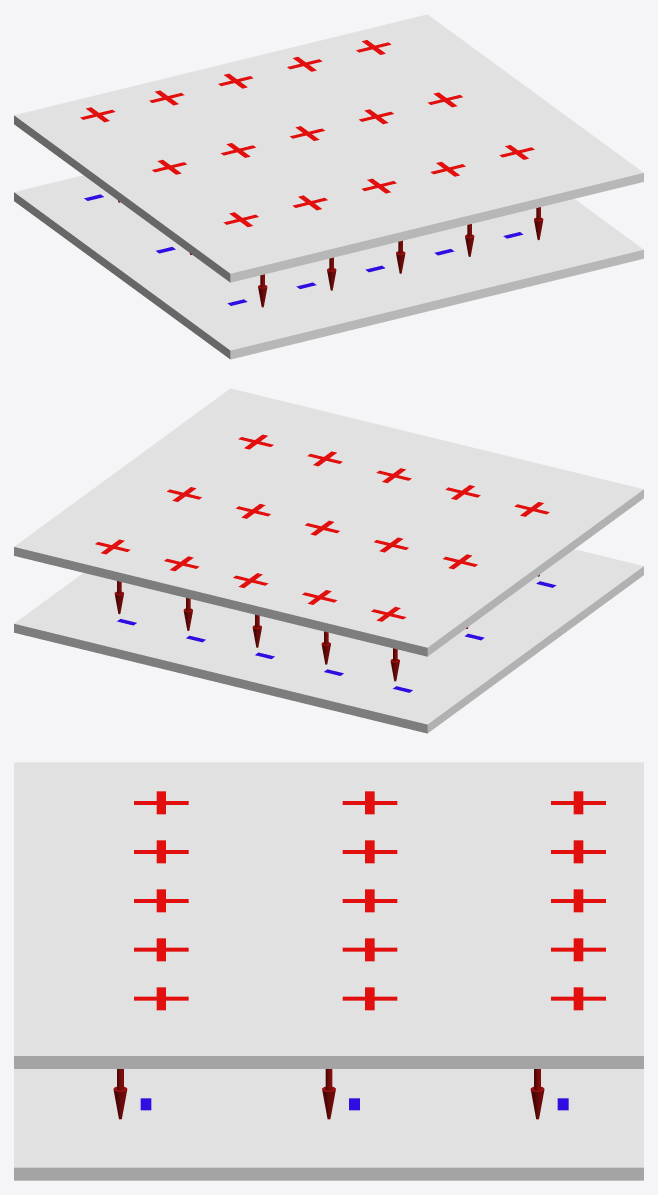
File: bbb.glb
The picture shows the model from 3 angles, top to bottom: view 1: azimuth 30°, elevation 25°; view 2: azimuth 150°, elevation 25°; view 3: azimuth 270°, elevation 25°; orthographic projection. The views are drawn at different scales.
Visible parts, largest first — view 1: Cube_17, Cube.001_48; view 2: Cube_17, Cube.001_48; view 3: Cube_17, Cube.001_48.
Part boxes in pixels (x1=…): Cube_17: x1=14, y1=14, x2=643, y2=282; Cube.001_48: x1=14, y1=175, x2=643, y2=359; Cube_17: x1=14, y1=388, x2=643, y2=656; Cube.001_48: x1=14, y1=549, x2=643, y2=733; Cube_17: x1=14, y1=762, x2=643, y2=1068; Cube.001_48: x1=14, y1=1069, x2=643, y2=1180.
Bounding box in the file's own units: 5.99 × 1.22 × 5.44.
